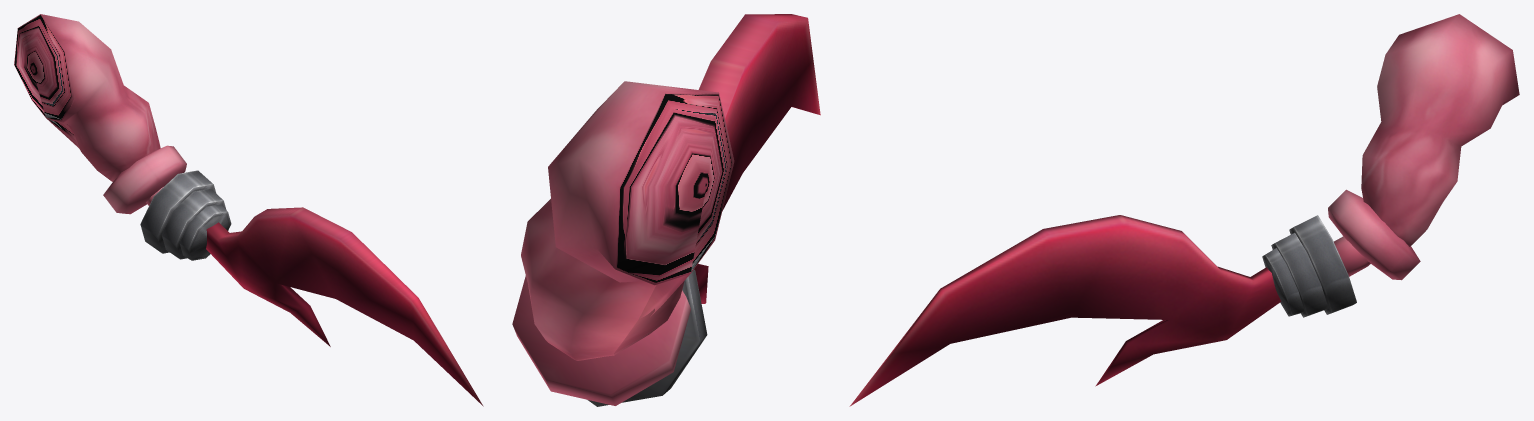
The model's file is left_arm-13_arkadimon.blend.obj.
3 views of the same model, side by side, from view 1: azimuth 30°, elevation 25°; view 2: azimuth 150°, elevation 25°; view 3: azimuth 270°, elevation 25° (orthographic). The views are drawn at different scales.
Parts seen in each view (by area): view 1: left_arm-13_arkadimon.blend_Arkadimon.014; view 2: left_arm-13_arkadimon.blend_Arkadimon.014; view 3: left_arm-13_arkadimon.blend_Arkadimon.014.
Boxes of the visible parts, x1,y1,x2,y2 form: left_arm-13_arkadimon.blend_Arkadimon.014: (14,14,483,406); left_arm-13_arkadimon.blend_Arkadimon.014: (512,14,820,406); left_arm-13_arkadimon.blend_Arkadimon.014: (849,14,1519,406).
Bounding box in the file's own units: 3.26 × 3.99 × 8.2.
Materials: 1 (1 with a texture image).
